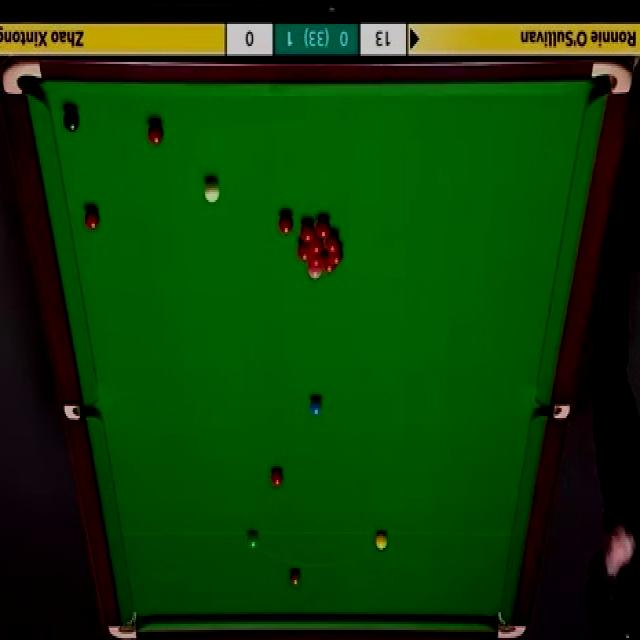black-ball: (62, 104, 79, 129)
blue-ball: (309, 394, 324, 418)
brown-ball: (289, 566, 302, 586)
green-ball: (245, 528, 261, 549)
pink-ball: (308, 268, 322, 279)
red-ball: (83, 203, 100, 229), (147, 122, 163, 145), (301, 220, 317, 243), (327, 242, 343, 264), (280, 212, 294, 233), (317, 222, 330, 243), (325, 232, 340, 250), (270, 467, 284, 486), (298, 242, 311, 260), (322, 258, 336, 272), (312, 253, 324, 269), (309, 241, 322, 255)
white-ball: (205, 181, 220, 203)
yellow-ball: (375, 530, 388, 550)
